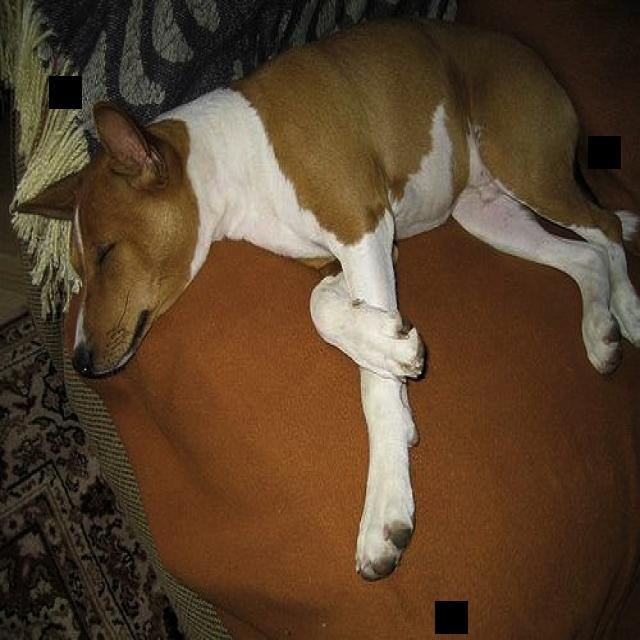adult_dog: (8, 16, 640, 584)
